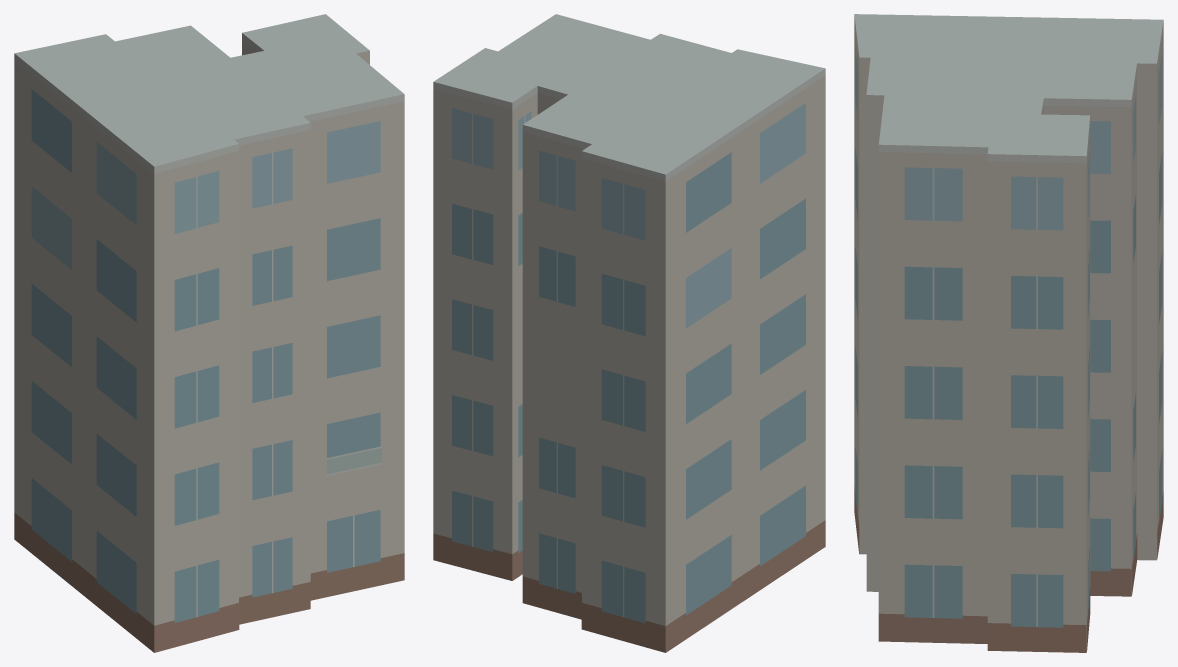
The model's file is survey-upis-32536639.glb.
3 views of the same model, side by side, from view 1: azimuth 30°, elevation 25°; view 2: azimuth 150°, elevation 25°; view 3: azimuth 270°, elevation 25° (orthographic). The views are drawn at different scales.
Parts seen in each view (by area): view 1: survey-upis-32536639.tmp; view 2: survey-upis-32536639.tmp; view 3: survey-upis-32536639.tmp.
Boxes of the visible parts, bbox=[...] form: survey-upis-32536639.tmp: bbox=[14, 14, 404, 652]; survey-upis-32536639.tmp: bbox=[433, 14, 825, 652]; survey-upis-32536639.tmp: bbox=[854, 14, 1163, 652].
Bounding box in the file's own units: 10.32 × 16.8 × 9.49.
